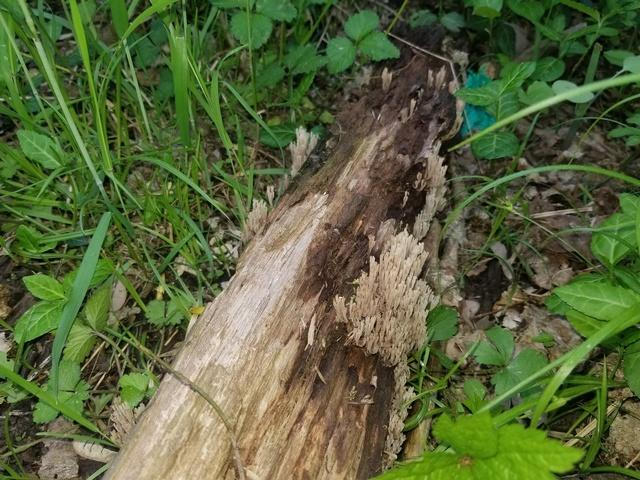edible_mushroom: (339, 223, 437, 370)
